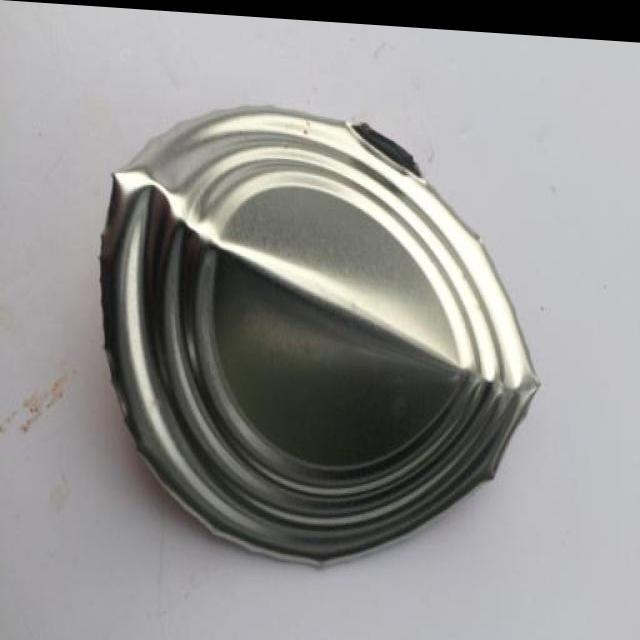metal: (102, 108, 537, 560)
